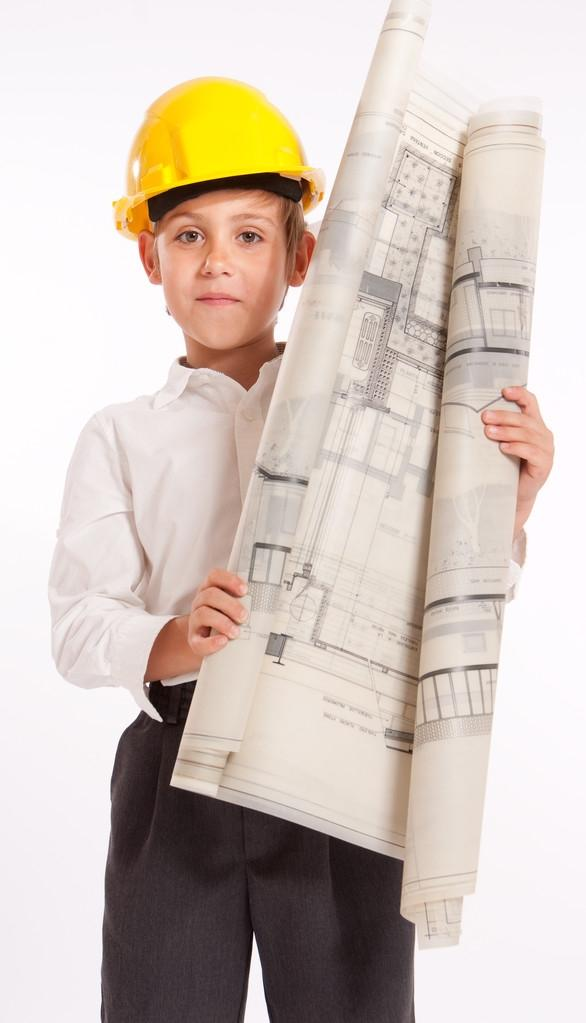helmet: (96, 76, 329, 230)
no_wear: (59, 390, 301, 676)
